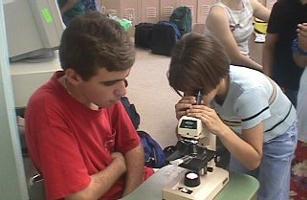person: (168, 33, 299, 200)
